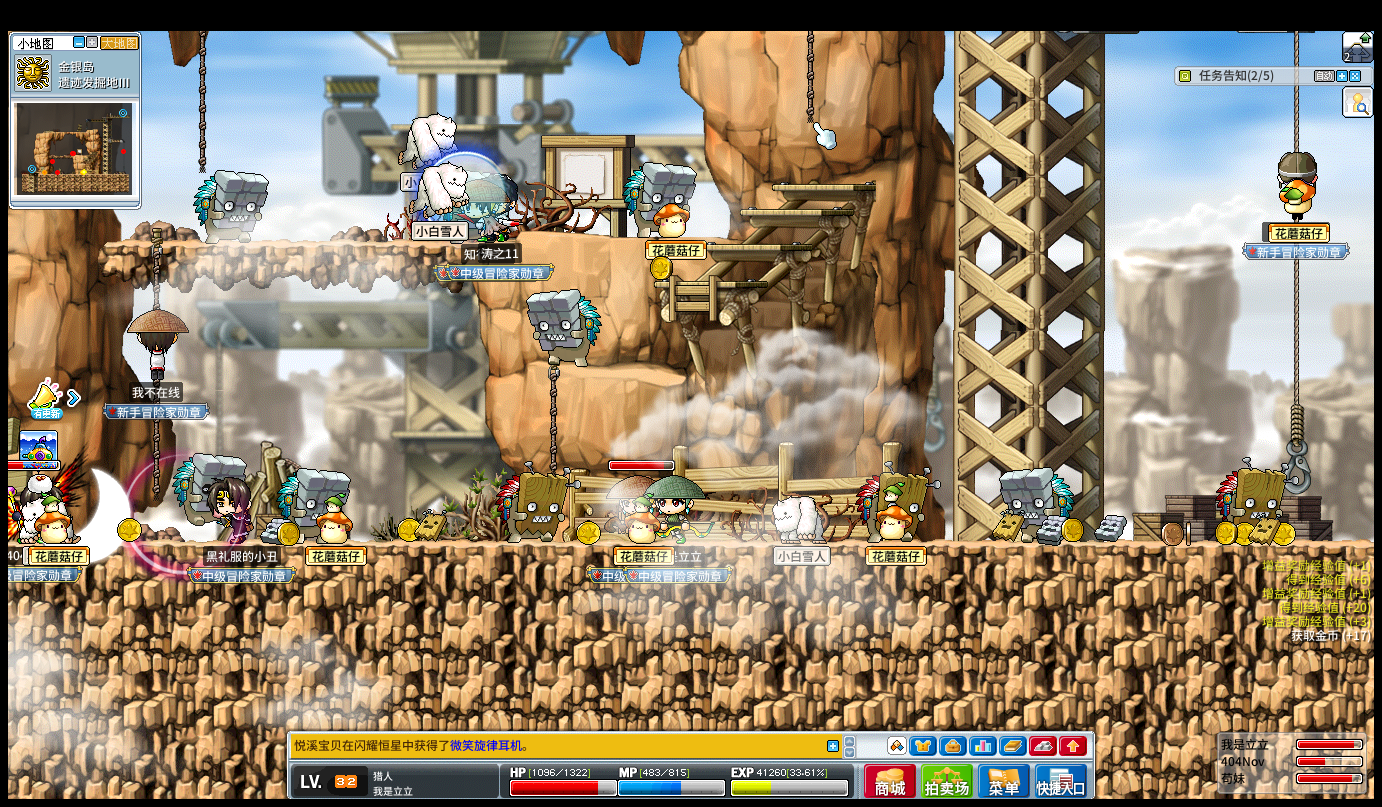floor: (108, 238, 473, 250), (581, 364, 689, 385), (591, 234, 737, 244), (594, 233, 733, 242), (649, 279, 767, 287), (737, 207, 852, 215), (701, 242, 811, 250), (770, 184, 877, 191)
monster: (1215, 459, 1297, 542), (495, 462, 573, 544), (524, 289, 600, 367), (193, 168, 269, 245), (1003, 467, 1073, 546), (859, 468, 935, 537), (622, 161, 696, 217)
rope: (547, 358, 561, 472), (1292, 256, 1302, 405), (198, 30, 207, 175), (805, 29, 815, 124), (151, 228, 162, 307), (1292, 30, 1299, 148), (150, 421, 159, 496), (1289, 398, 1304, 443)
